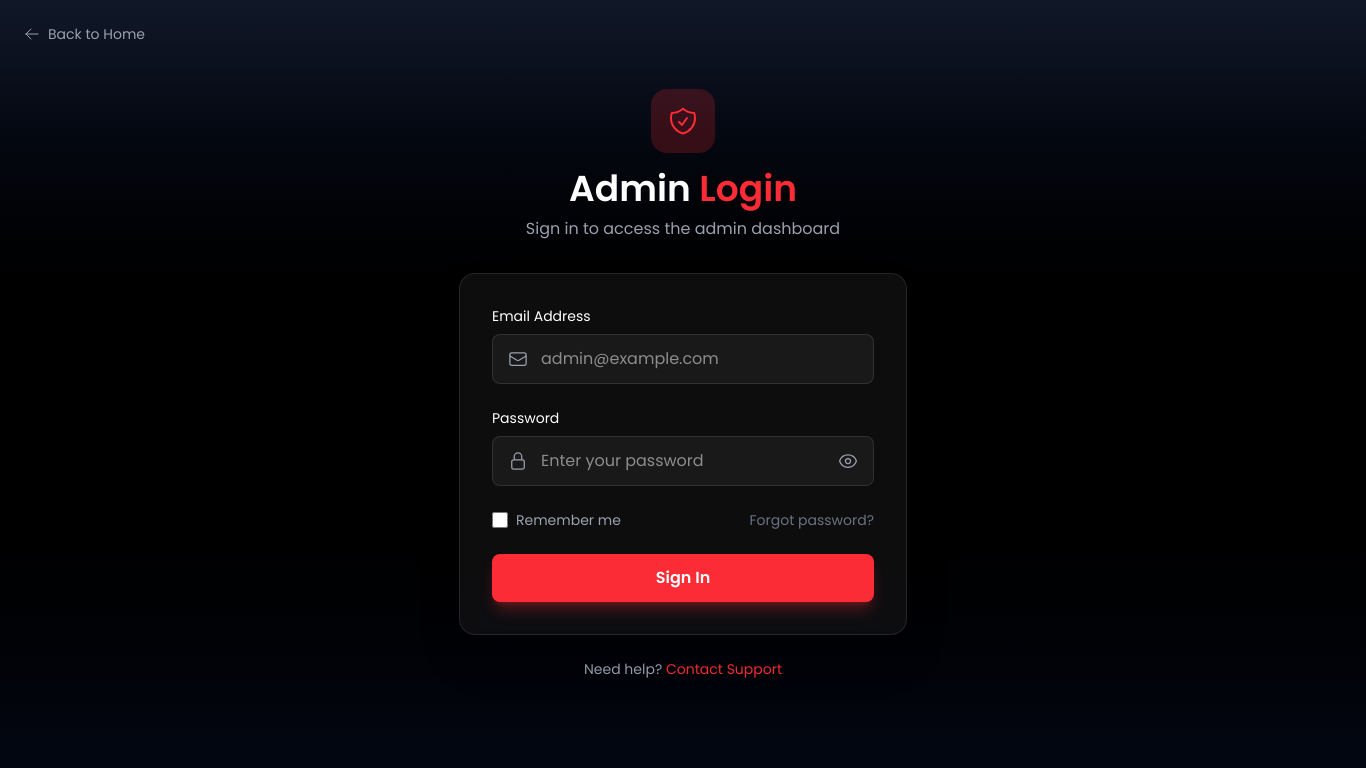
Scenario: Login page › shows error message on failed login
The image size is (1366, 768).
In the field with placeholder "admin@example.com": point(683, 359) [492,334,874,384], type "wrong@example.com"
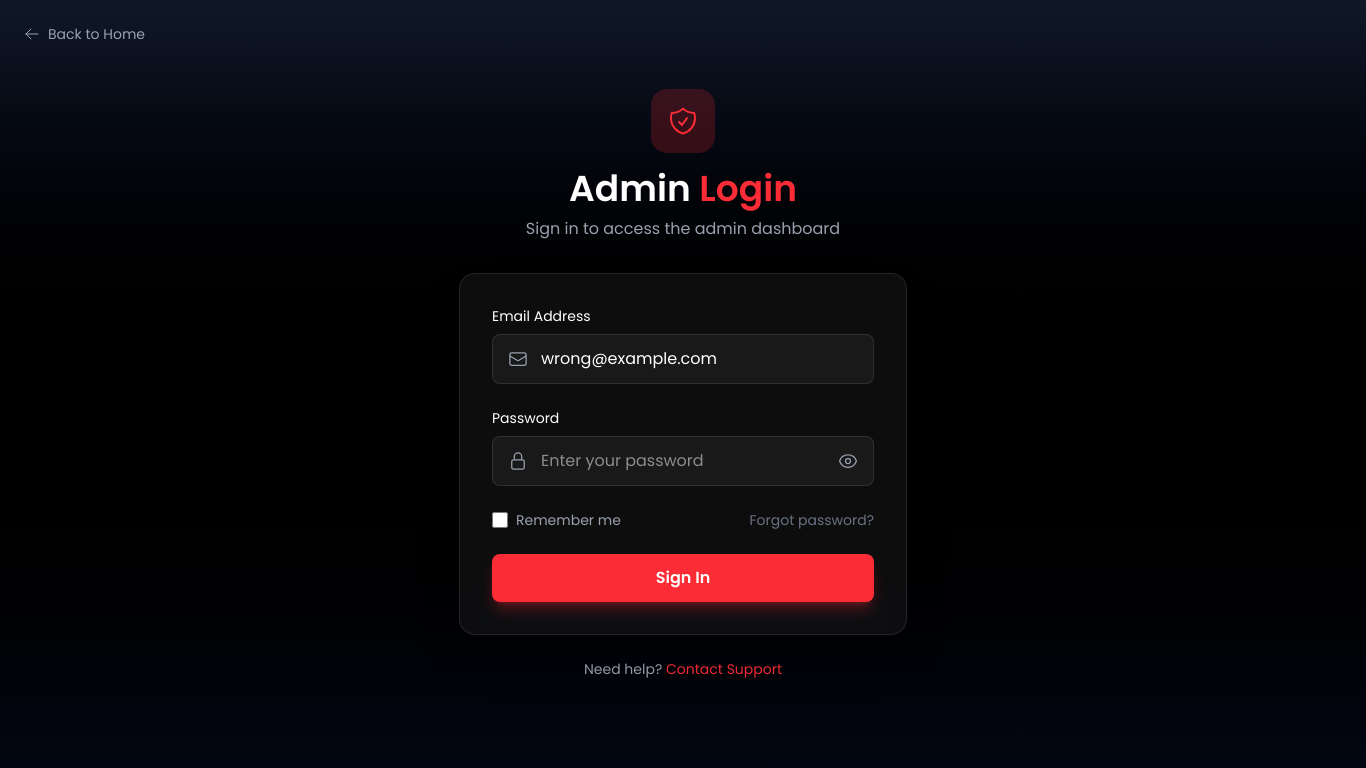
In the password field with placeholder "Enter your password": point(683, 461) [492,436,874,486], type "wrongpassword"
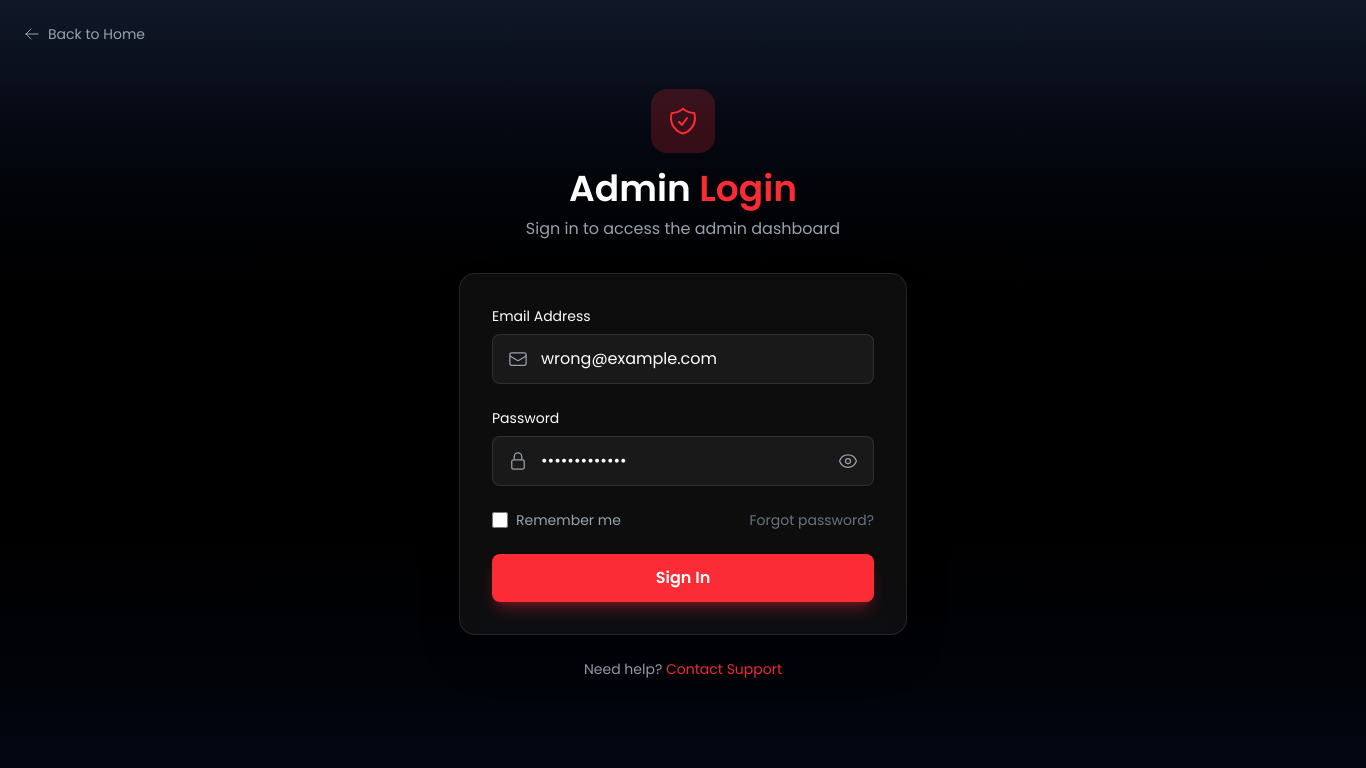
Click the button "Sign In": point(683, 578) [492,554,874,602]
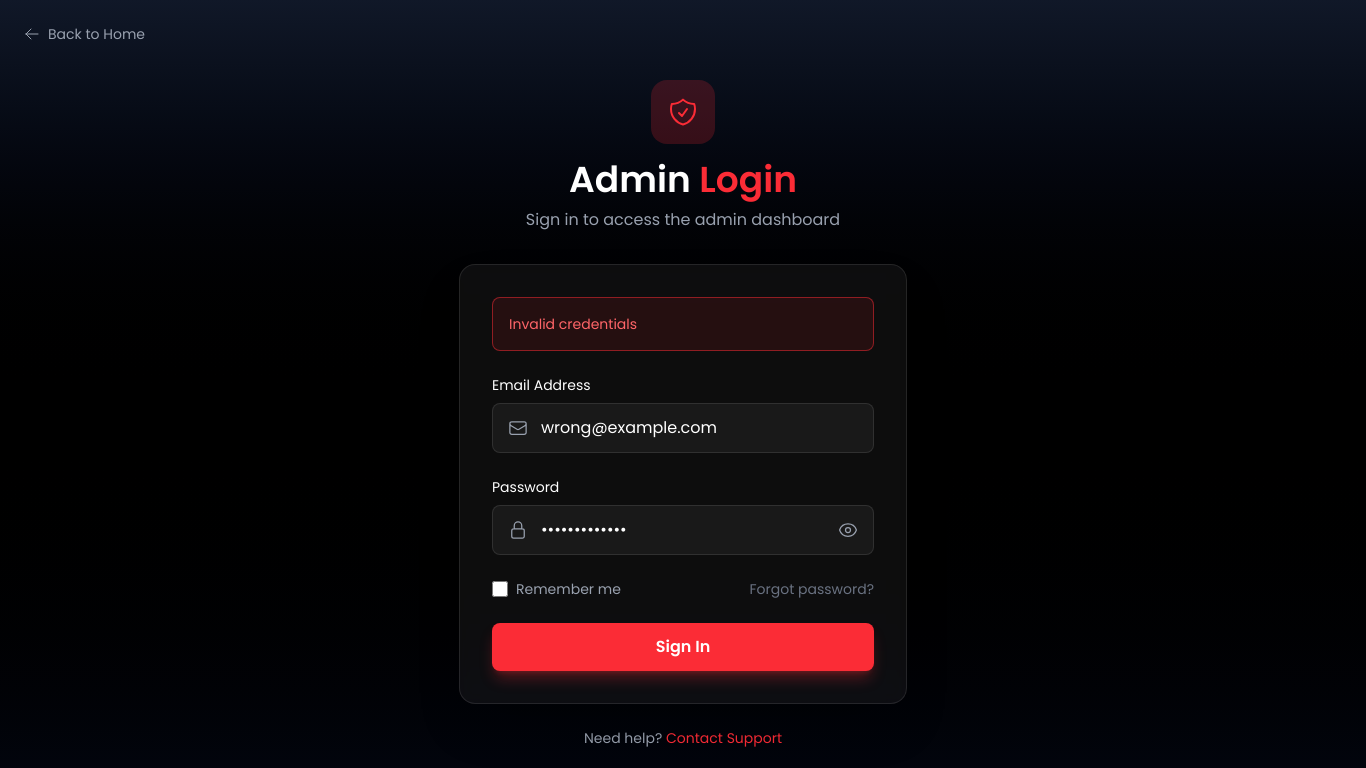
Check: the text "Invalid credentials" is shown, box [492,297,874,351]
